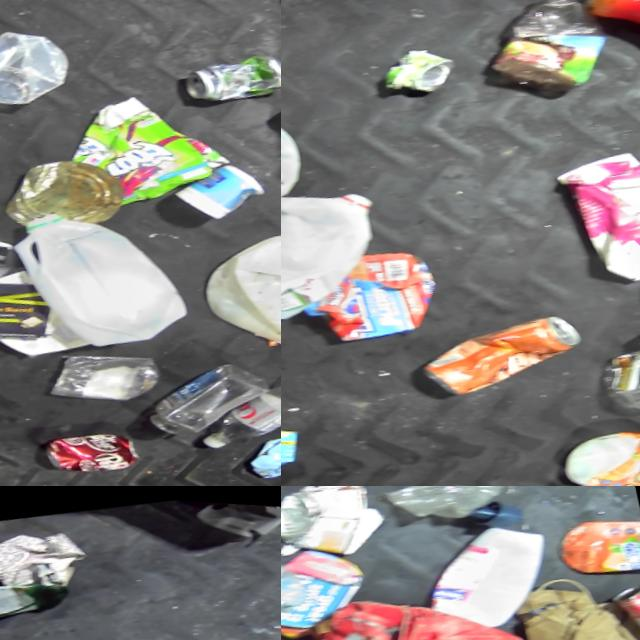can: (407, 298, 586, 404), (0, 145, 118, 234), (30, 423, 138, 480), (180, 42, 281, 102), (370, 41, 455, 103), (606, 569, 640, 640)
milk_jug: (5, 190, 186, 364), (281, 174, 400, 343), (192, 203, 281, 361), (0, 23, 78, 108)
plastic_bottle: (139, 343, 281, 435), (179, 348, 281, 458)
